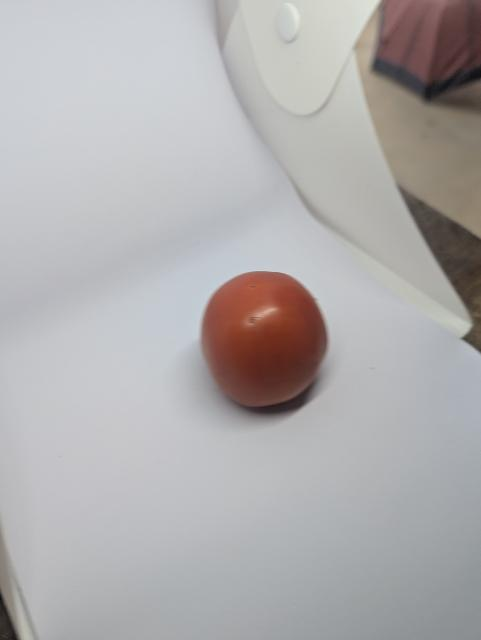red: (194, 261, 337, 423)
